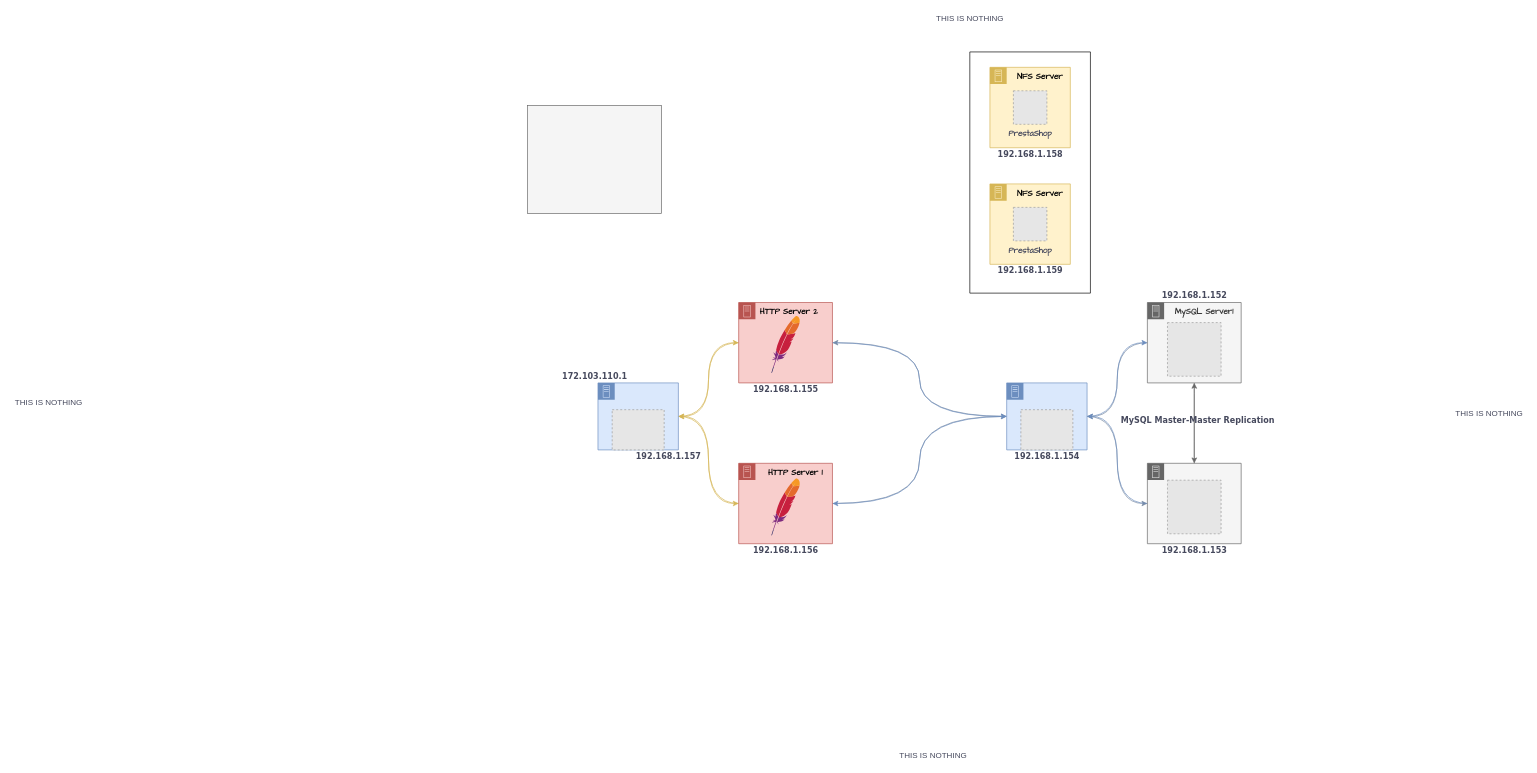
The diagram is 1537 pixels wide and 773 high, and some of its shapes have lost their labels. Grey dashed boxes stand in for pictures. Here are the shapes that lost their labels. From the top down, the box of each, then its label:
(527, 105, 662, 213): High Availability Architecture for PrestaShop
(597, 382, 678, 450): Reverse HTTP Proxy
(1006, 382, 1087, 450): Reverse MySQL Proxy
(1147, 463, 1241, 544): MySQL Server2
